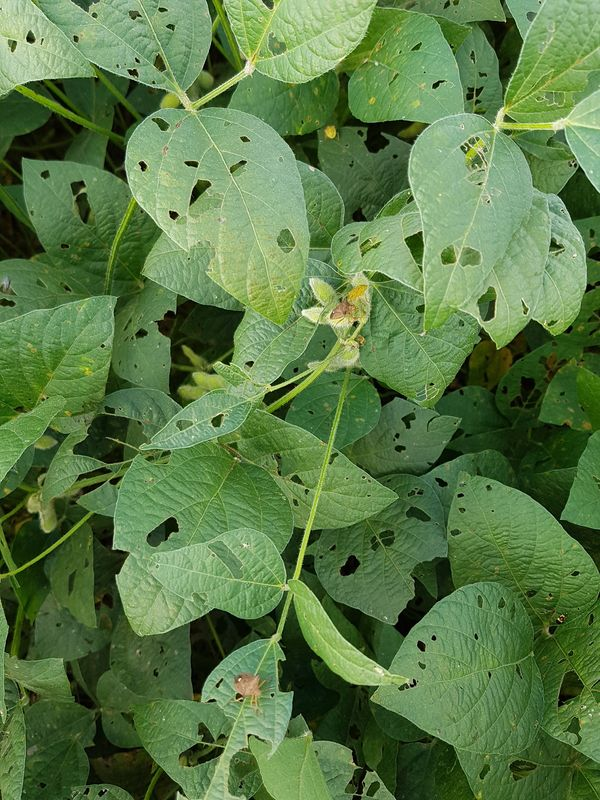Euschistus_heros_adulto: (222, 664, 278, 714), (323, 298, 357, 329)
Euschistus_heros_ninfa: (316, 118, 344, 145), (343, 279, 372, 297)
